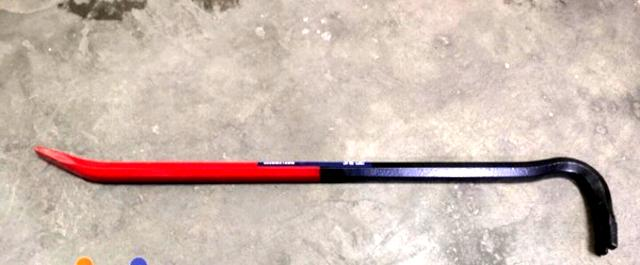crow bar: (25, 137, 623, 259)
